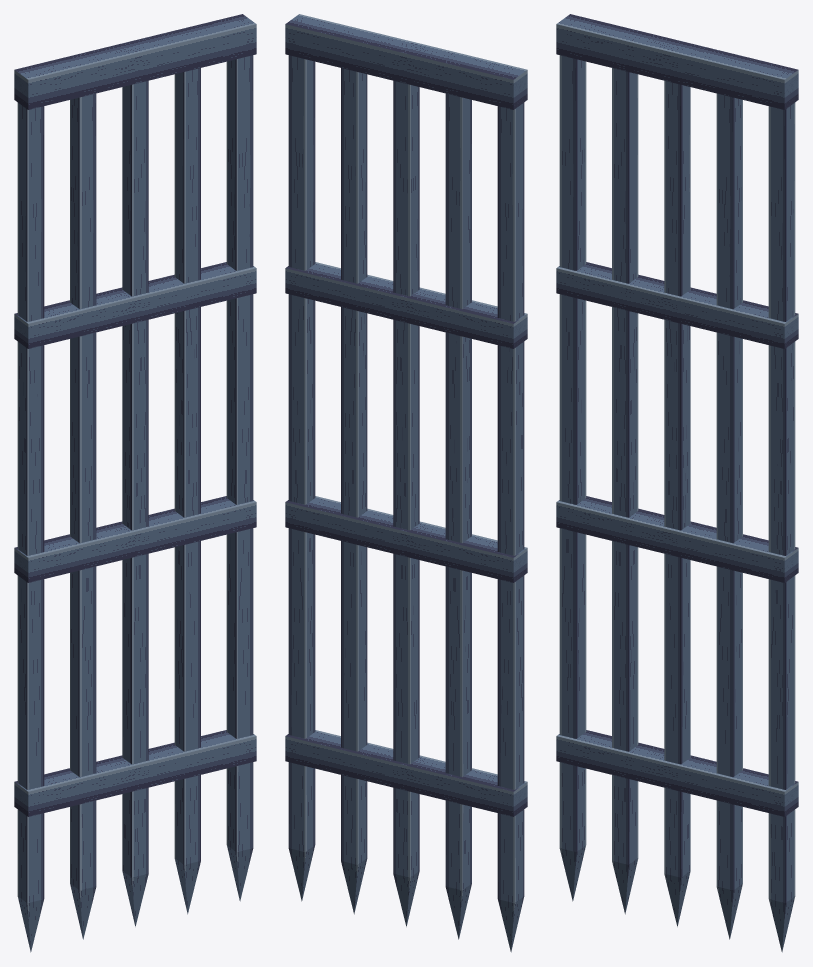
File: gitter_schmal.glb
3 renders of one model, left to right at view 1: azimuth 30°, elevation 25°; view 2: azimuth 150°, elevation 25°; view 3: azimuth 330°, elevation 25°, orthographic.
Parts seen in each view (by area): view 1: gitter_schmal; view 2: gitter_schmal; view 3: gitter_schmal.
Boxes of the visible parts, x1=… form: gitter_schmal: x1=14, y1=14, x2=256, y2=952; gitter_schmal: x1=285, y1=14, x2=527, y2=952; gitter_schmal: x1=556, y1=14, x2=798, y2=952.
Bounding box in the file's own units: 0.95 × 3.5 × 0.1.
Materials: 1 (1 with a texture image).
